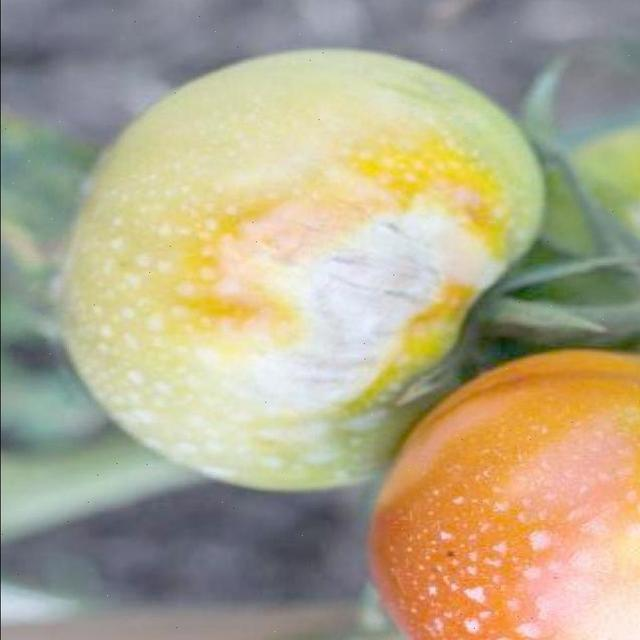Sunscald Fruit: (152, 107, 323, 286)
